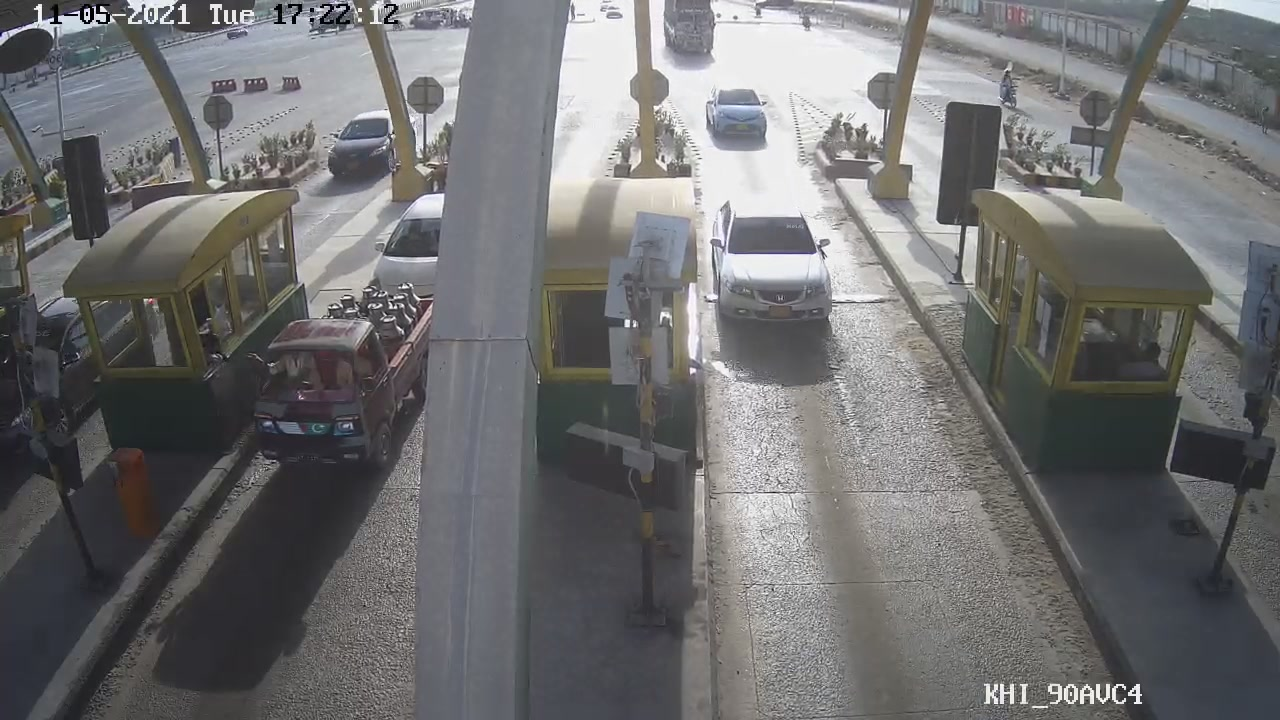F1: (705, 185, 841, 345)
